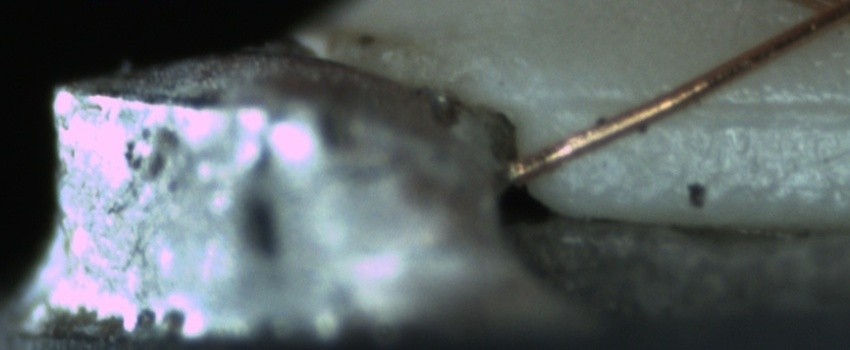DL: (548, 73, 847, 138)
